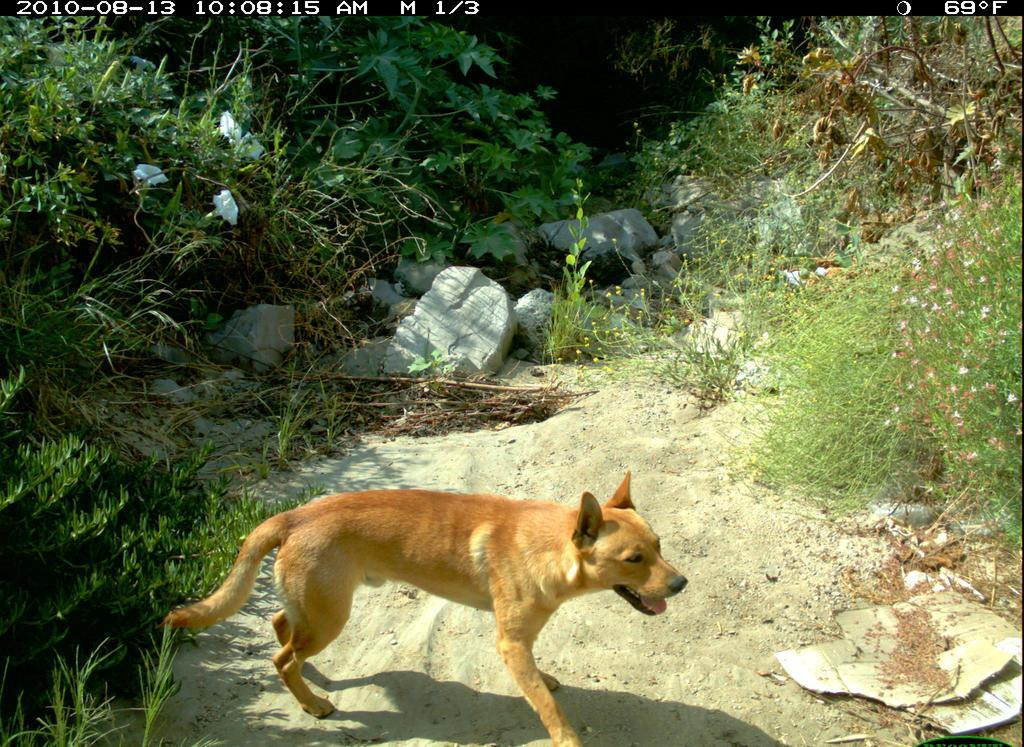dog: (154, 469, 708, 742)
